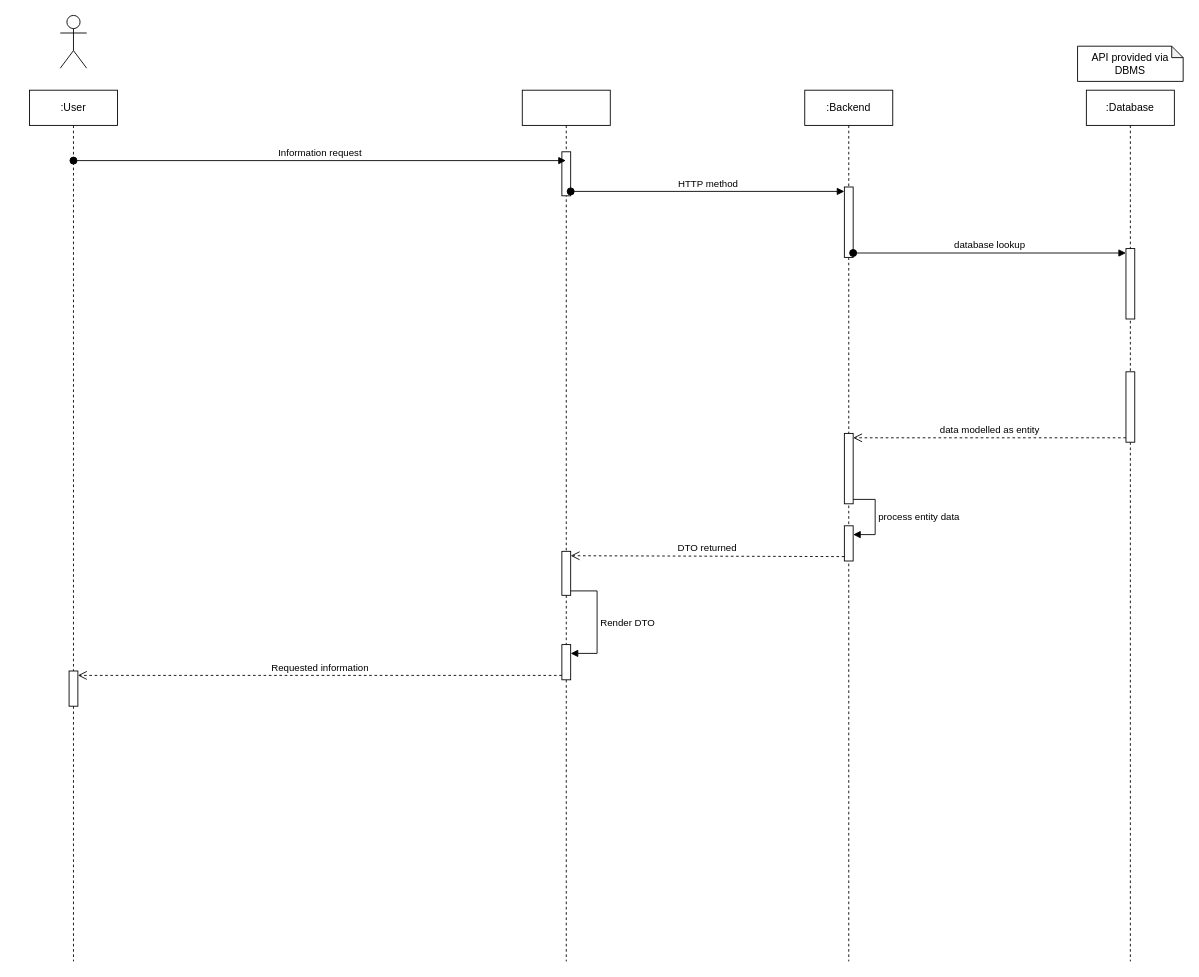
This 1199x977 diagram has some shape labels left out. The centre of each missing label's shape, as x and y in pixels:
":Frontend" goes at point 565,525.
"User Office administrator" goes at point 73,41.
